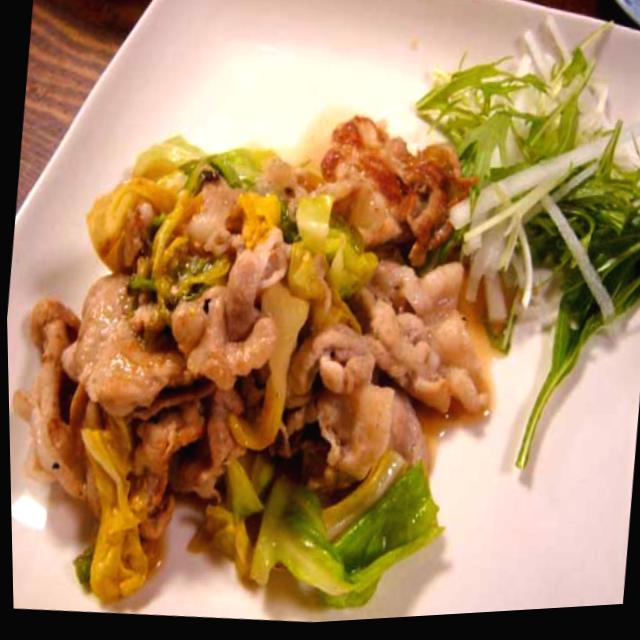蔬菜料理: (1, 32, 640, 640)
